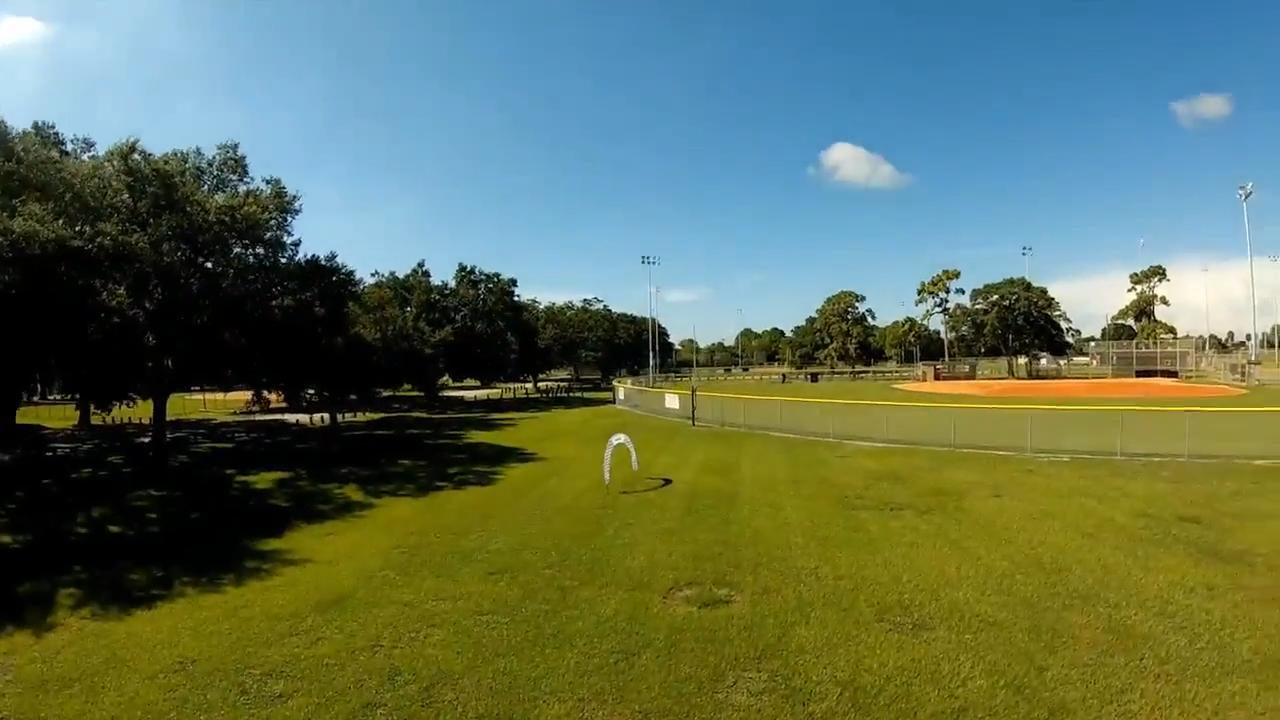gate: (597, 431, 643, 483)
